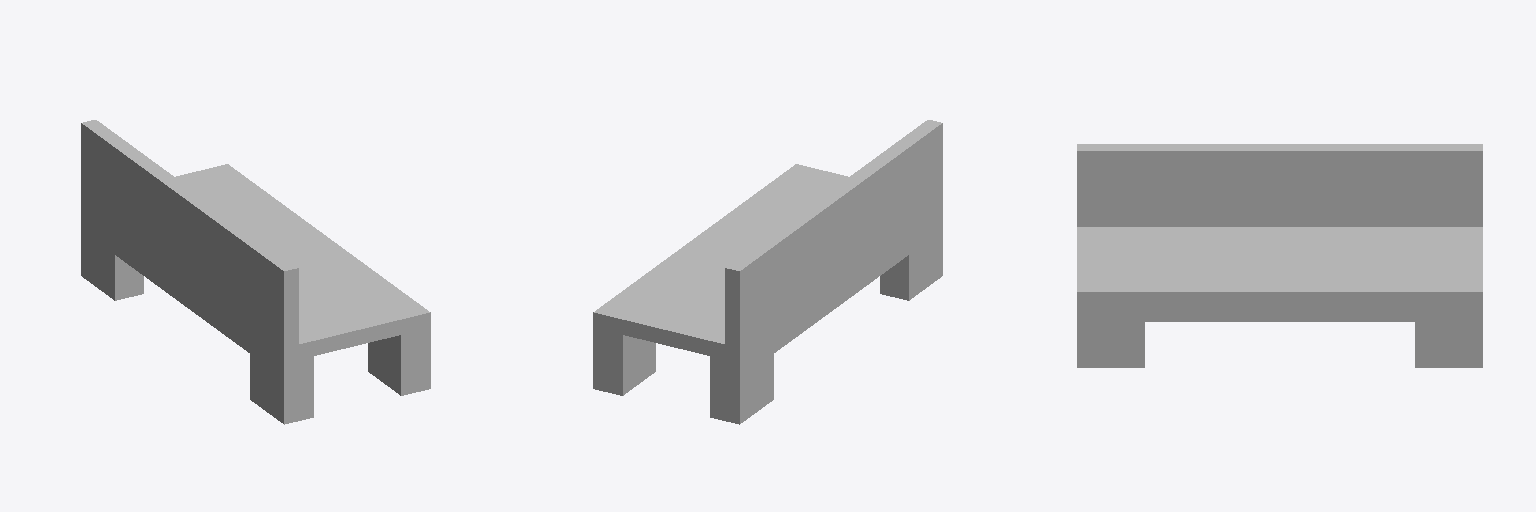
The model's file is bench.obj.
3 views of the same model, side by side, from view 1: azimuth 30°, elevation 25°; view 2: azimuth 150°, elevation 25°; view 3: azimuth 270°, elevation 25° (orthographic).
Visible parts, largest first — view 1: object 1; view 2: object 1; view 3: object 1.
Part boxes in pixels (bbox=[...]): object 1: bbox=[81, 120, 430, 424]; object 1: bbox=[593, 120, 942, 424]; object 1: bbox=[1077, 144, 1482, 367].
Bounding box in the file's own units: 1 × 1 × 2.4.